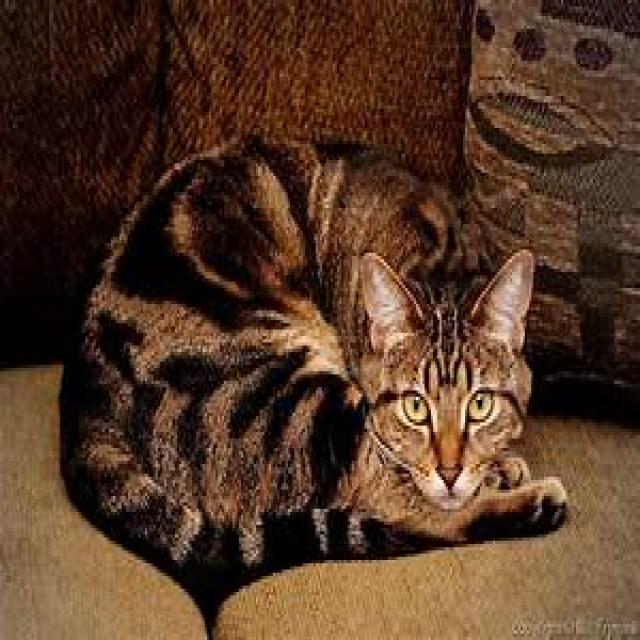animal: (54, 122, 594, 634)
